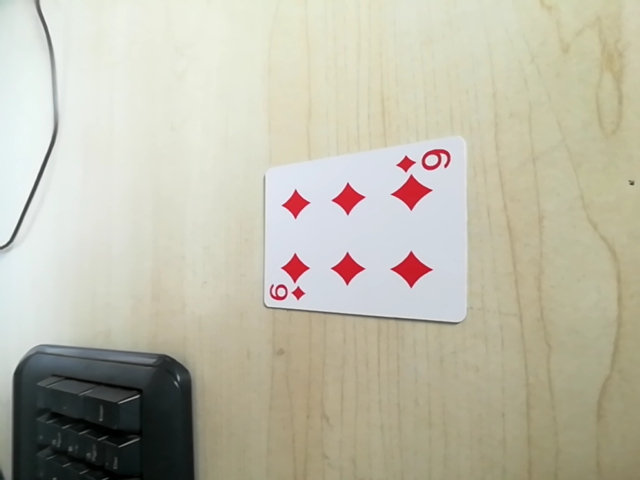fk 6: (397, 144, 456, 176), (263, 281, 310, 307)
